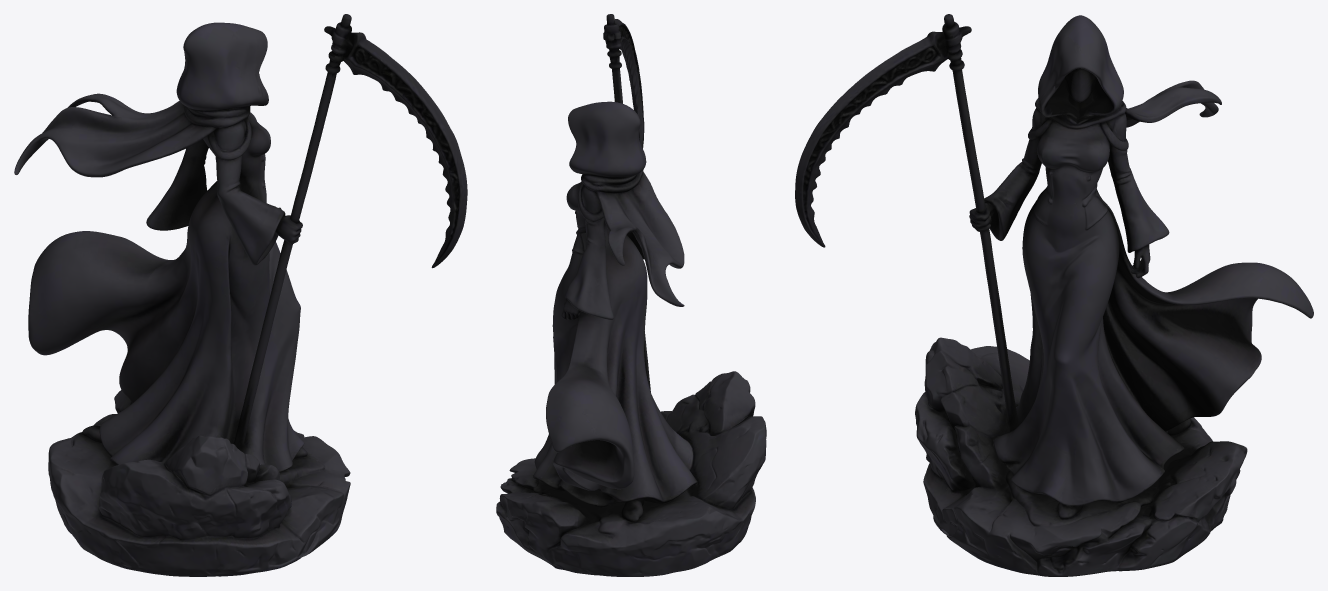
Rendered from inspiration-434.glb.
The picture shows the model from 3 angles, left to right: view 1: azimuth 30°, elevation 25°; view 2: azimuth 150°, elevation 25°; view 3: azimuth 270°, elevation 25°; orthographic projection. The views are drawn at different scales.
Visible parts, largest first — view 1: tripo_node_3acfa745-ea77-4fc0-b044-e93c1ff1b18f; view 2: tripo_node_3acfa745-ea77-4fc0-b044-e93c1ff1b18f; view 3: tripo_node_3acfa745-ea77-4fc0-b044-e93c1ff1b18f.
Boxes of the visible parts, bbox=[...] form: tripo_node_3acfa745-ea77-4fc0-b044-e93c1ff1b18f: bbox=[14, 14, 467, 576]; tripo_node_3acfa745-ea77-4fc0-b044-e93c1ff1b18f: bbox=[496, 14, 766, 576]; tripo_node_3acfa745-ea77-4fc0-b044-e93c1ff1b18f: bbox=[795, 14, 1313, 576].
Size of the model in its own units: 0.5193 by 1 by 0.8648.
Materials: 1 (1 with a texture image).
